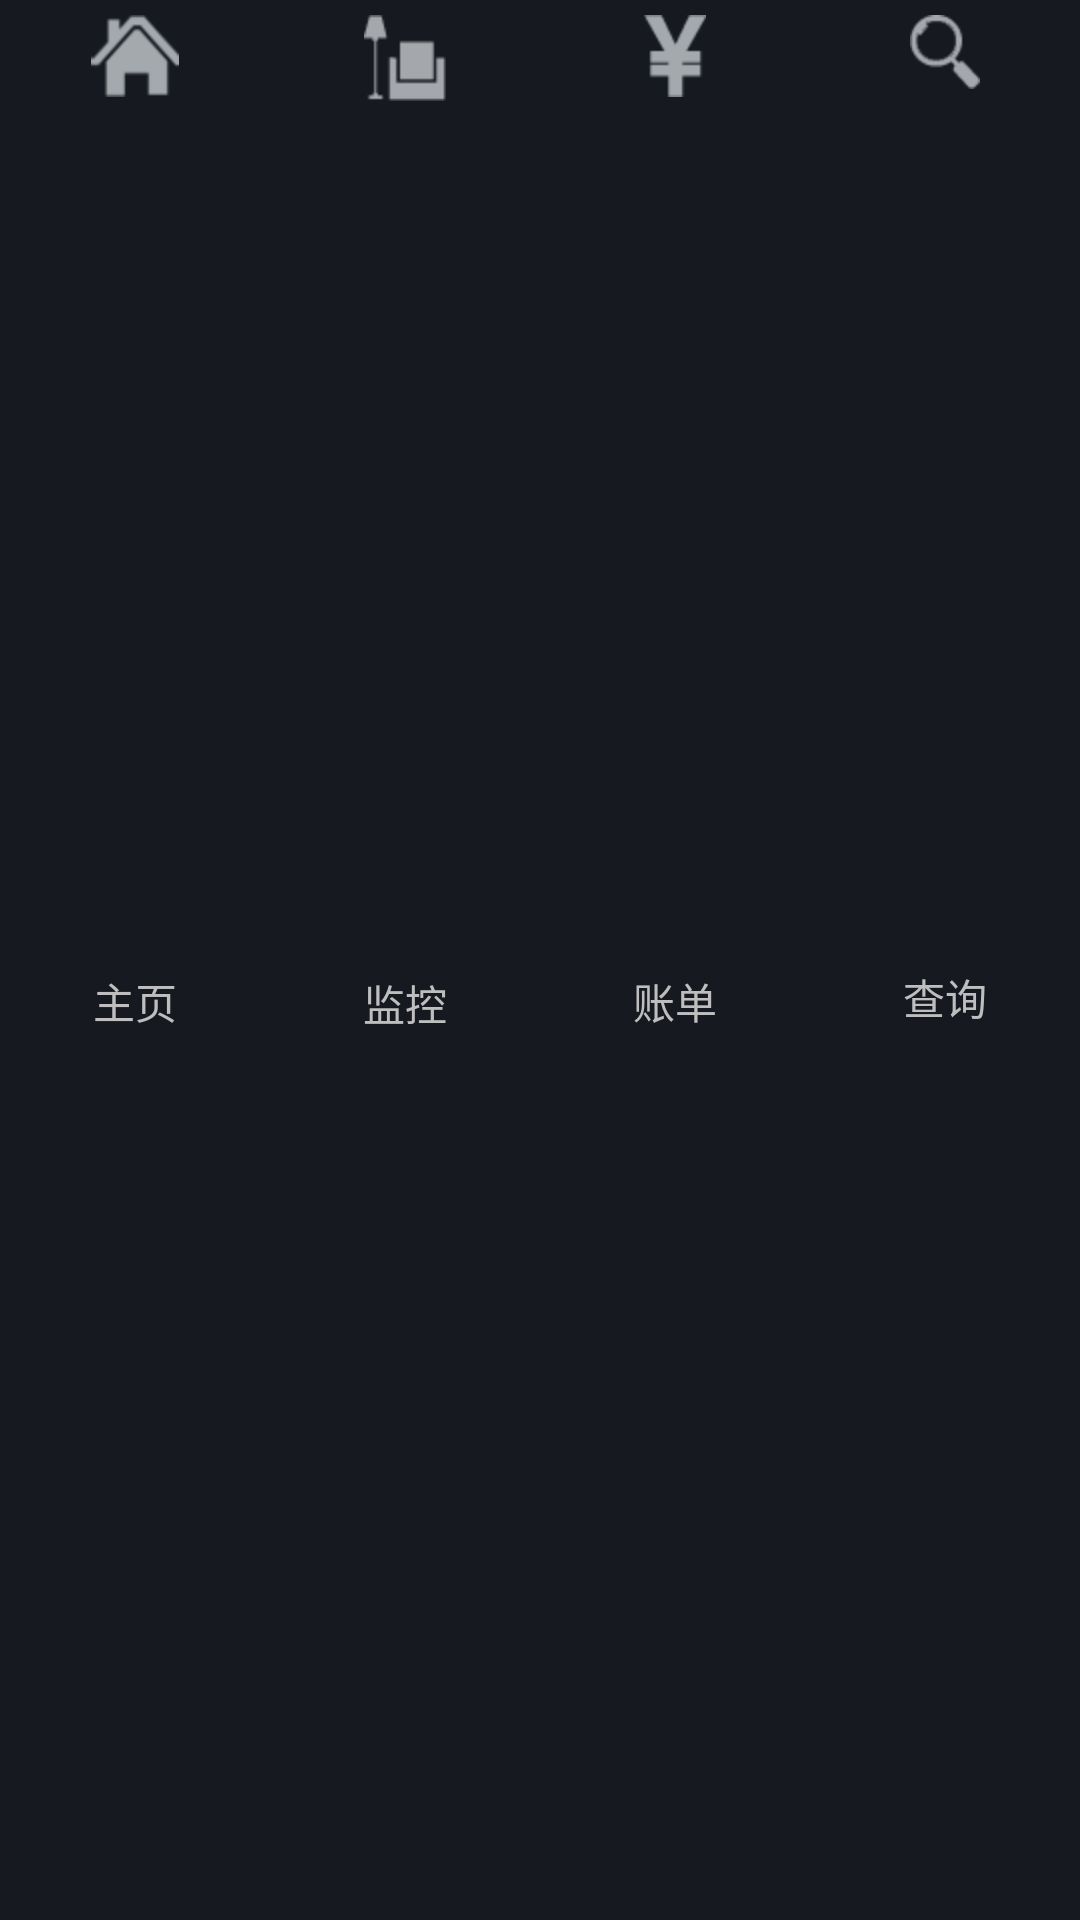

Icons on this 1080px×1920px Android screen, each with the point to tap as [x,y]:
bill: [675,56]
home: [135,56]
query: [945,52]
